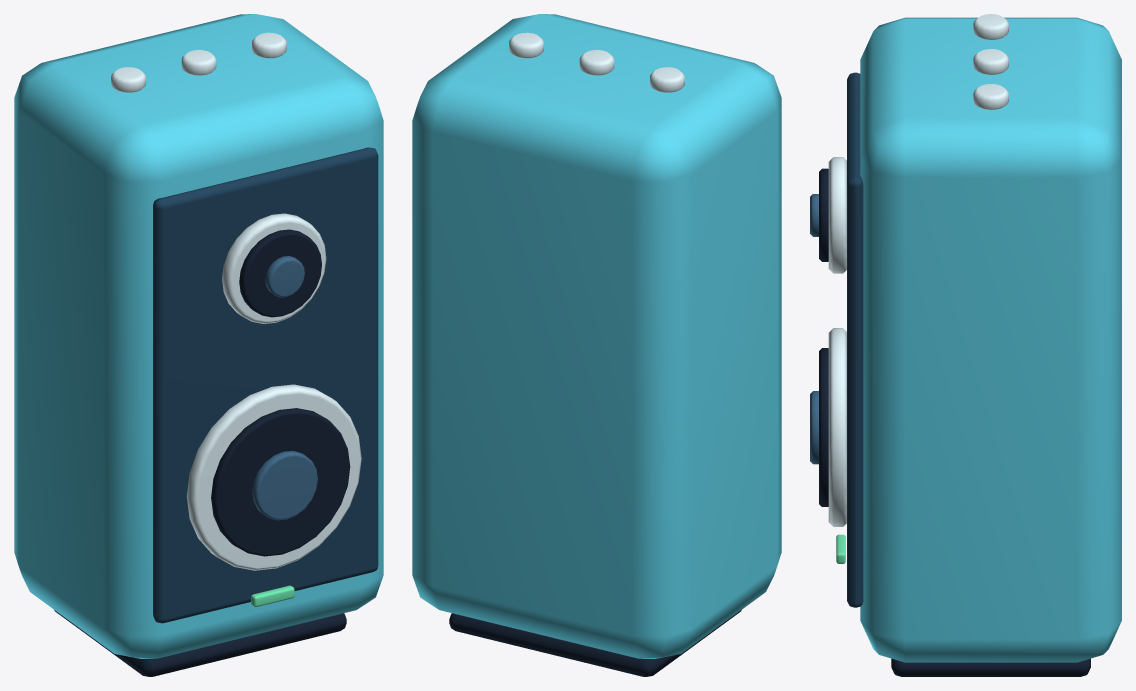
File: speaker.glb
3 renders of one model, left to right at view 1: azimuth 30°, elevation 25°; view 2: azimuth 150°, elevation 25°; view 3: azimuth 270°, elevation 25°, orthographic.
Parts seen in each view (by area): view 1: speaker; view 2: speaker; view 3: speaker.
Boxes of the visible parts, left/top/right/bottom form: speaker: left=14, top=14, right=383, bottom=676; speaker: left=412, top=14, right=781, bottom=676; speaker: left=810, top=14, right=1121, bottom=676.
Bounding box in the file's own units: 0.5098 × 1 × 0.4913.
Materials: 1 (1 with a texture image).
